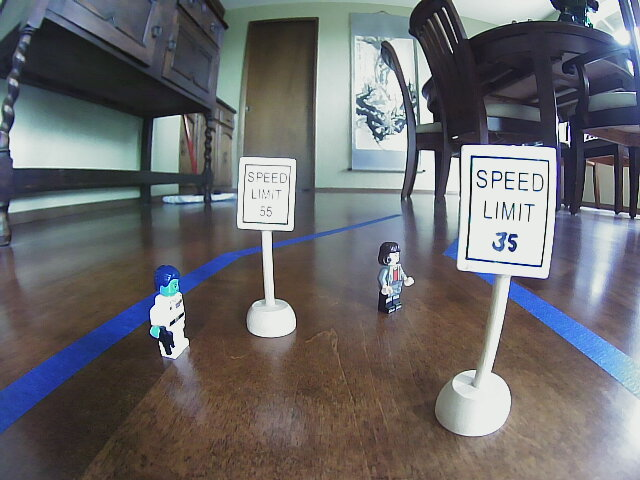SpeedLimit35: (458, 143, 557, 277)
SpeedLimit55: (235, 157, 299, 233)
person: (145, 260, 191, 364), (379, 236, 417, 322)
